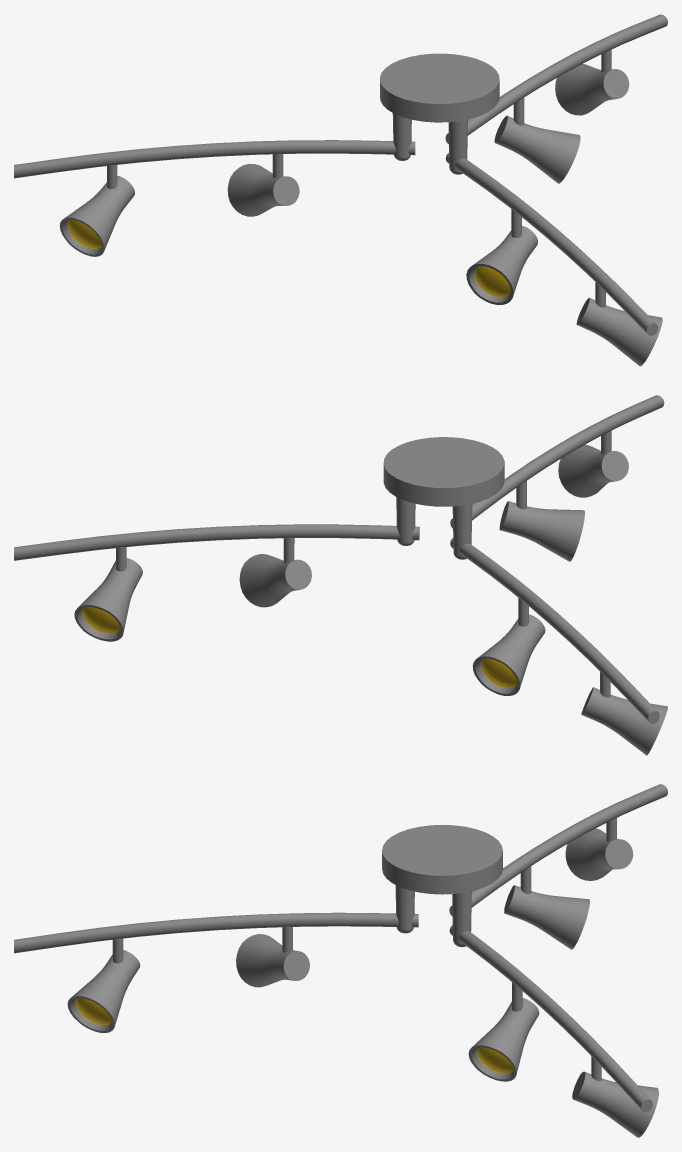
Rendered from Spot4_4.fbx.
3 views of the same model, one above another, from view 1: azimuth 30°, elevation 25°; view 2: azimuth 150°, elevation 25°; view 3: azimuth 270°, elevation 25° (orthographic).
Parts seen in each view (by area): view 1: pCylinder1391, pCylinder1393, pCylinder1394, pCylinder1398, pCylinder1405, pCylinder1392, pCylinder1401, pCylinder1407, pCylinder1400, pCylinder1397, pCylinder1395, pSphere193 (+1 smaller); view 2: pCylinder1391, pCylinder1392, pCylinder1393, pCylinder1407, pCylinder1397, pCylinder1401, pCylinder1394, pCylinder1398, pCylinder1405, pCylinder1400, pCylinder1395, pSphere195 (+1 smaller); view 3: pCylinder1391, pCylinder1394, pCylinder1392, pCylinder1398, pCylinder1400, pCylinder1407, pCylinder1393, pCylinder1401, pCylinder1397, pCylinder1405, pCylinder1395, pSphere191 (+1 smaller).
Boxes of the visible parts, box(x1,y1,x2,y2) form: pCylinder1391: box(380, 53, 499, 122); pCylinder1393: box(14, 140, 415, 178); pCylinder1394: box(445, 153, 658, 335); pCylinder1398: box(494, 115, 580, 183); pCylinder1405: box(59, 175, 134, 256); pCylinder1392: box(445, 14, 667, 144); pCylinder1401: box(466, 226, 537, 304); pCylinder1407: box(227, 163, 299, 216); pCylinder1400: box(576, 297, 662, 366); pCylinder1397: box(555, 63, 629, 115); pCylinder1395: box(392, 113, 467, 174); pSphere193: box(474, 266, 510, 297); pCylinder1391: box(383, 437, 504, 506); pCylinder1392: box(14, 524, 419, 560); pCylinder1393: box(450, 538, 659, 723); pCylinder1407: box(472, 614, 545, 695); pCylinder1397: box(74, 558, 142, 641); pCylinder1401: box(499, 501, 584, 561); pCylinder1394: box(450, 395, 664, 528); pCylinder1398: box(239, 554, 311, 607); pCylinder1405: box(581, 687, 667, 755); pCylinder1400: box(558, 444, 628, 497); pCylinder1395: box(396, 497, 472, 559); pSphere195: box(480, 658, 517, 688); pCylinder1391: box(382, 824, 502, 894); pCylinder1394: box(14, 912, 418, 953); pCylinder1392: box(449, 925, 652, 1112); pCylinder1398: box(468, 998, 539, 1081); pCylinder1400: box(67, 950, 140, 1032); pCylinder1407: box(504, 885, 589, 949); pCylinder1393: box(449, 784, 667, 916); pCylinder1401: box(236, 934, 309, 987); pCylinder1397: box(572, 1071, 658, 1137); pCylinder1405: box(565, 828, 633, 880); pCylinder1395: box(395, 885, 471, 947); pSphere191: box(476, 1047, 513, 1073).
Bounding box in the file's own units: 66.46 × 16.35 × 57.76.
